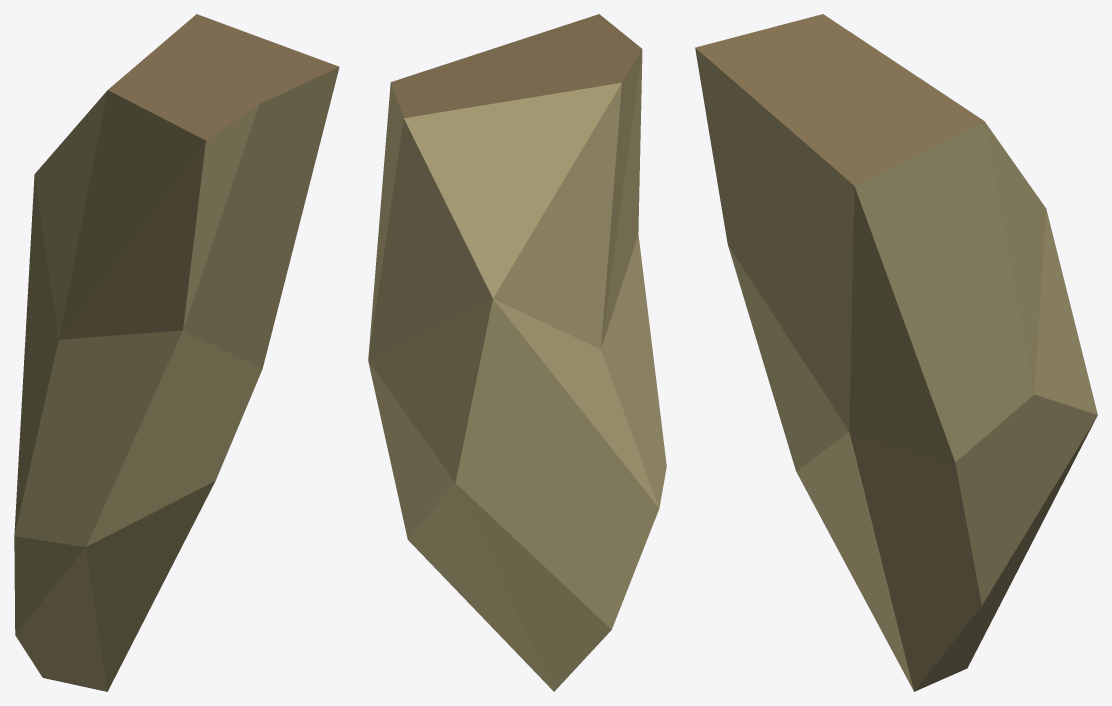
The picture shows the model from 3 angles, left to right: view 1: azimuth 30°, elevation 25°; view 2: azimuth 150°, elevation 25°; view 3: azimuth 270°, elevation 25°; orthographic projection. The views are drawn at different scales.
Parts seen in each view (by area): view 1: Object053; view 2: Object053; view 3: Object053.
Boxes of the visible parts, <box> form: Object053: <box>14,14,339,691</box>; Object053: <box>368,14,666,691</box>; Object053: <box>695,14,1097,691</box>.
Size of the model in its own units: 35.17 by 69.94 by 38.32.
